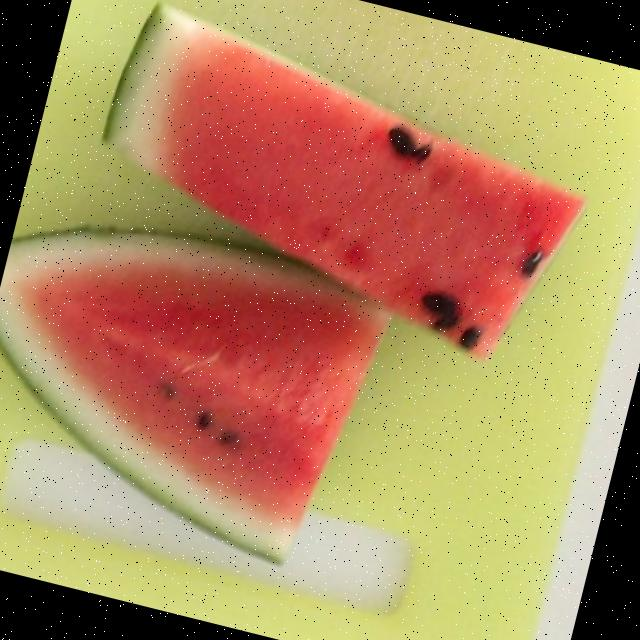watermelon-fresh: (0, 3, 582, 584)
